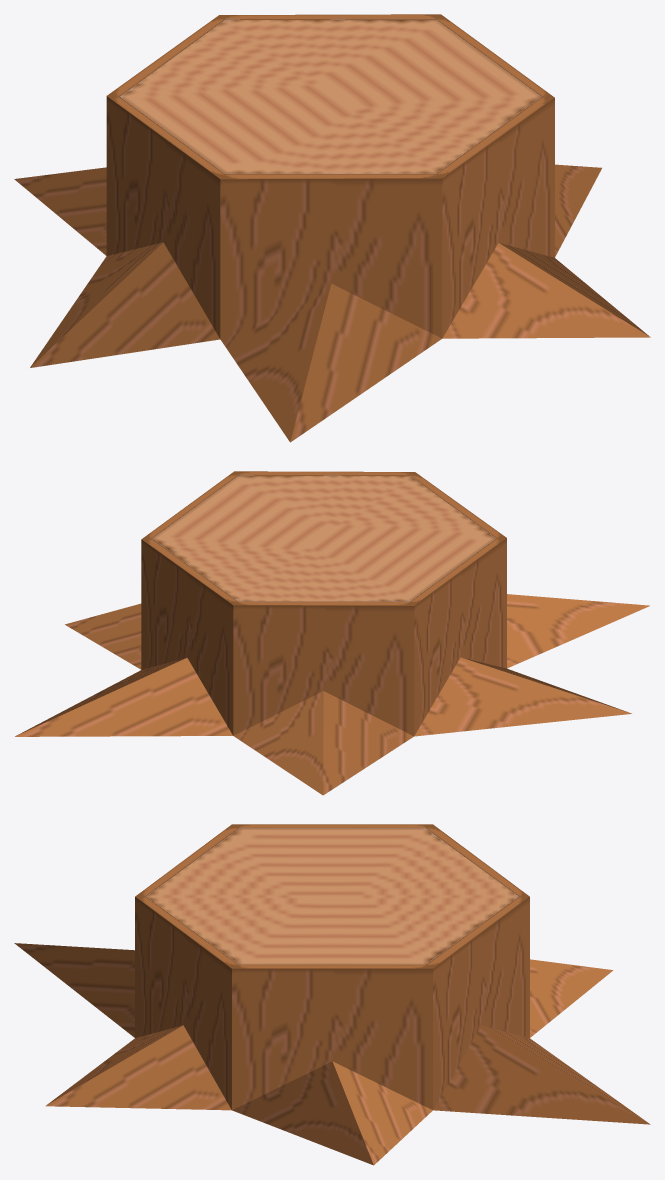
File: Tocon_Textured.FBX
The picture shows the model from 3 angles, top to bottom: view 1: azimuth 30°, elevation 25°; view 2: azimuth 150°, elevation 25°; view 3: azimuth 270°, elevation 25°; orthographic projection. The views are drawn at different scales.
Parts seen in each view (by area): view 1: Tocon; view 2: Tocon; view 3: Tocon.
Boxes of the visible parts, left/top/right/bottom form: Tocon: left=14, top=14, right=650, bottom=442; Tocon: left=14, top=471, right=650, bottom=795; Tocon: left=14, top=824, right=650, bottom=1165.
Size of the model in its own units: 366 by 88.29 by 360.
